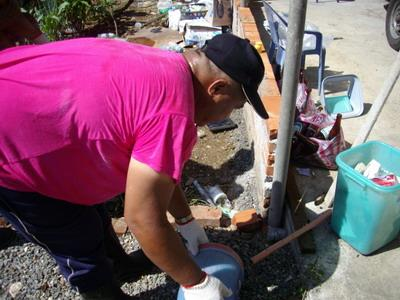bottle: (294, 130, 319, 157), (328, 111, 343, 140)
bucket: (328, 136, 400, 258)
